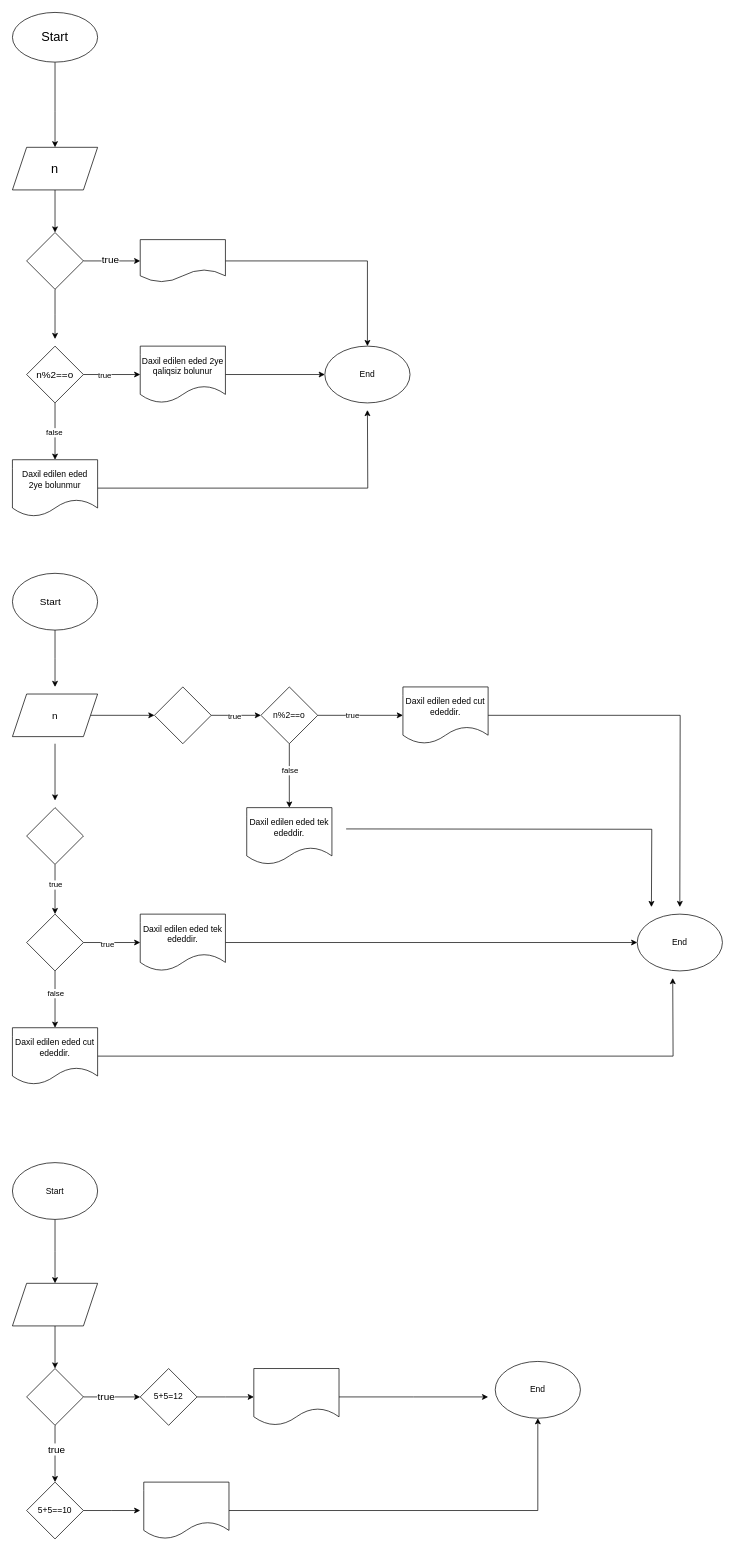
This 735x1551 diagram has some shape labels left out. The box of each missing label's shape, as (x1, y1, x2, y2) in pixels:
a+b=c: (26, 1368, 83, 1425)
Daxil edilen reqemlerin cemi duzgundur.: (143, 1481, 229, 1539)
Daxil edilen reqemlerin cemi yanlisdir.: (253, 1368, 339, 1425)
Duzgun ededi daxil edin: (140, 239, 225, 282)
n%2==1: (26, 913, 83, 971)
n<100: (154, 686, 211, 744)
n=55 a=5 b=5: (12, 1283, 98, 1326)
n==0: (26, 232, 83, 289)
n>100: (26, 807, 83, 864)
